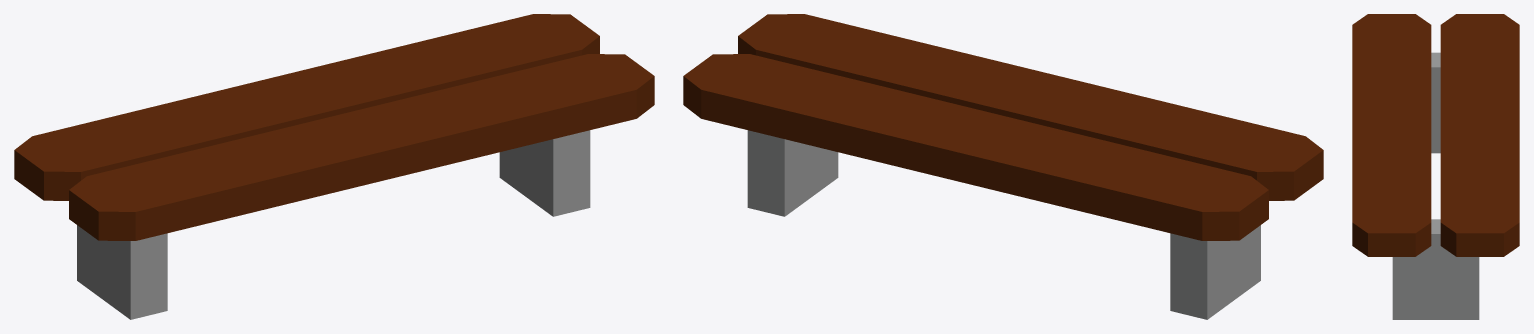
File: Bench 2.fbx
3 renders of one model, left to right at view 1: azimuth 30°, elevation 25°; view 2: azimuth 150°, elevation 25°; view 3: azimuth 270°, elevation 25°, orthographic. The views are drawn at different scales.
Parts seen in each view (by area): view 1: Bench_02; view 2: Bench_02; view 3: Bench_02.
Boxes of the visible parts, <box> form: Bench_02: <box>14,14,654,319</box>; Bench_02: <box>683,14,1323,319</box>; Bench_02: <box>1352,14,1519,319</box>.
Bounding box in the file's own units: 120 × 27.05 × 38.67.
